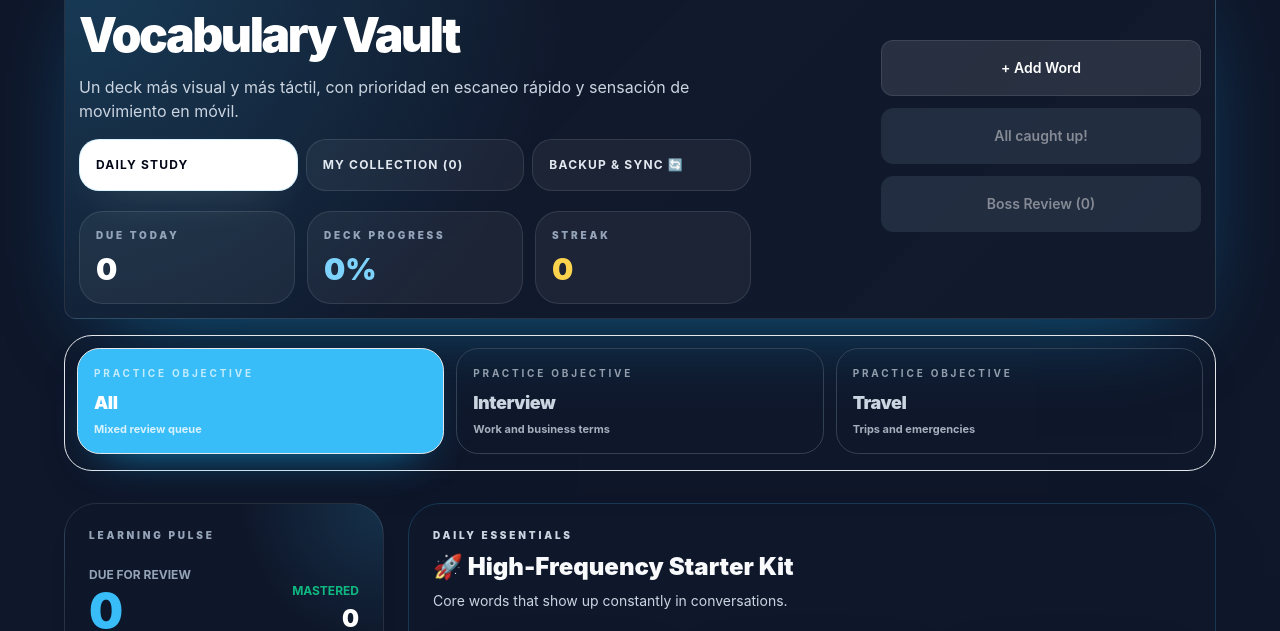
Scenario: VocabularyVaultView flows › empty vault: import sample fills the collection
Click the button "My Collection (0)" at (415, 165), box [306,139,524,191]
(page scrolled)
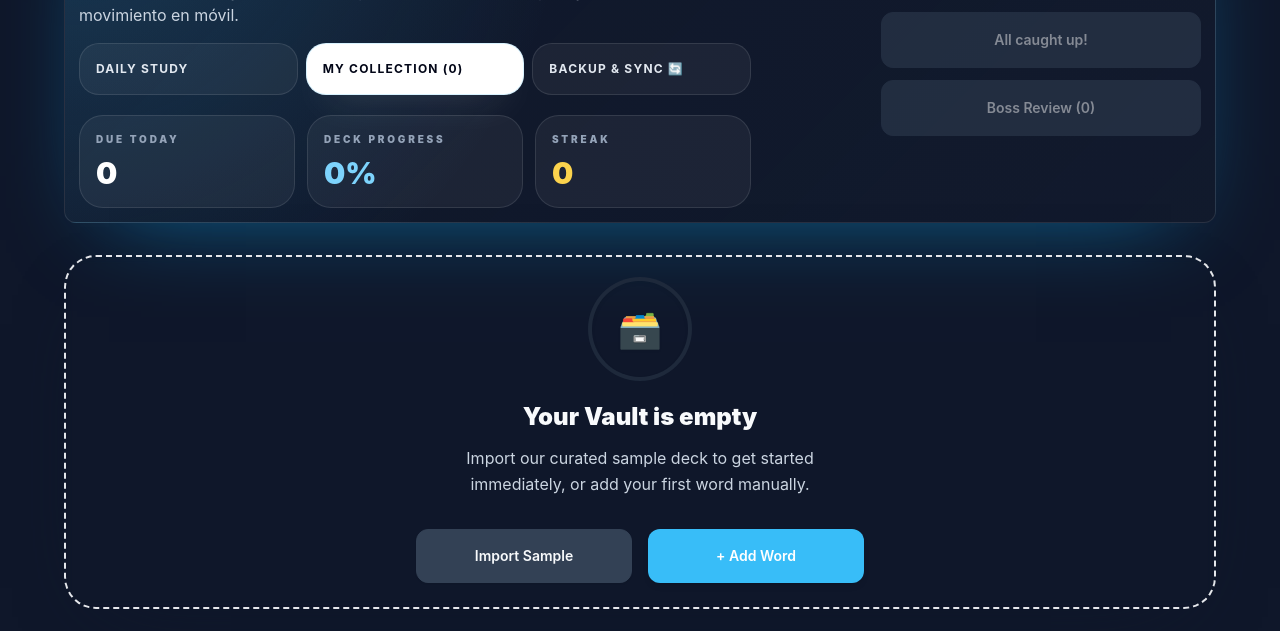
Click the button "Import Sample" at (524, 556), box [416,529,632,583]
(page scrolled)
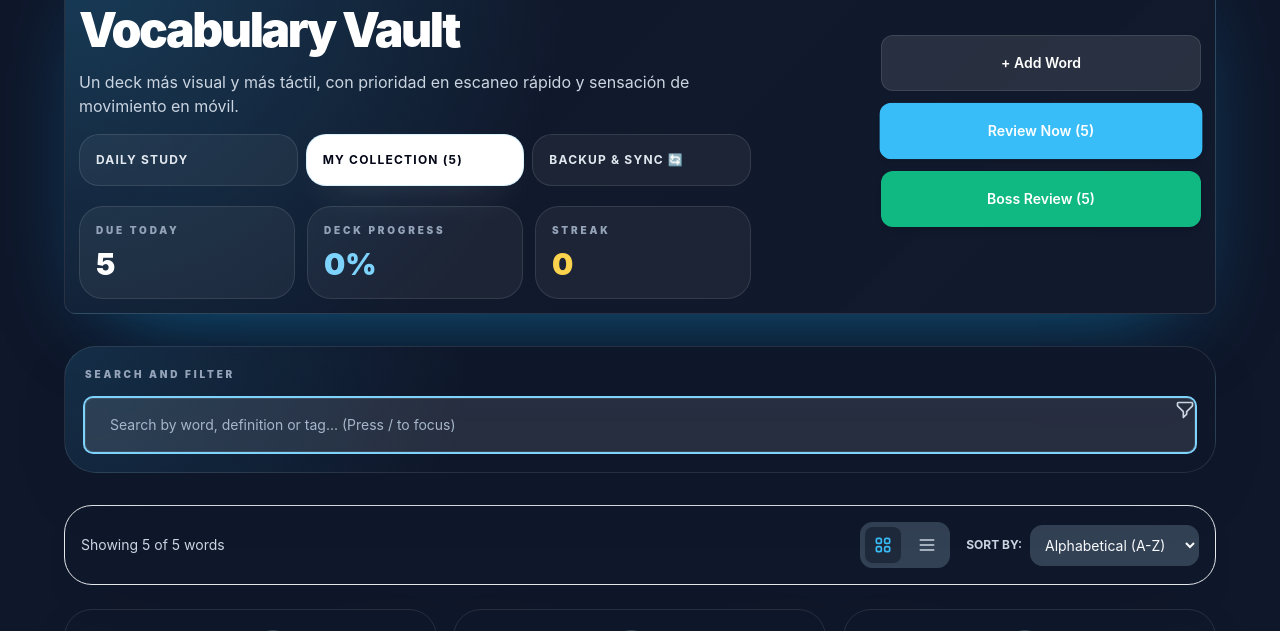
Now the field with placeholder "Search by word, definition or tag... (Press / to focus)" is shown, box [85,398,1195,452]
